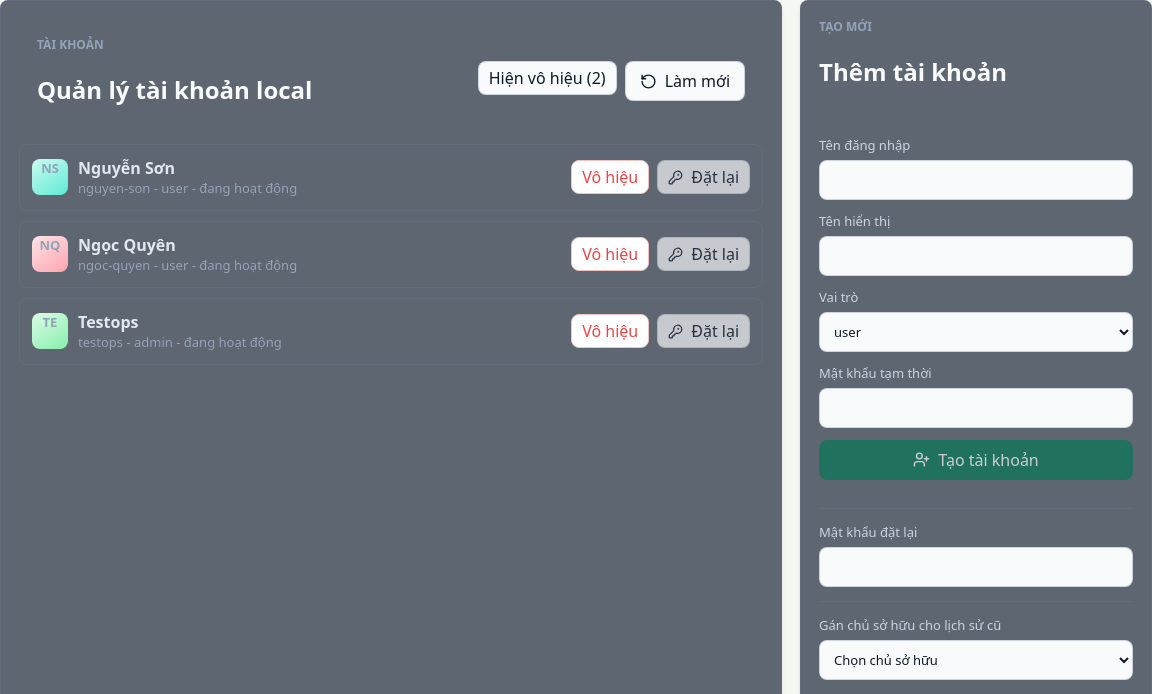
AdminAccountsPanel › reveals disabled accounts only when the admin asks for them
This screenshot has width=1152, height=694.
Click the button "Hiện vô hiệu (2)" at point(547, 78), box [478,61,617,95]
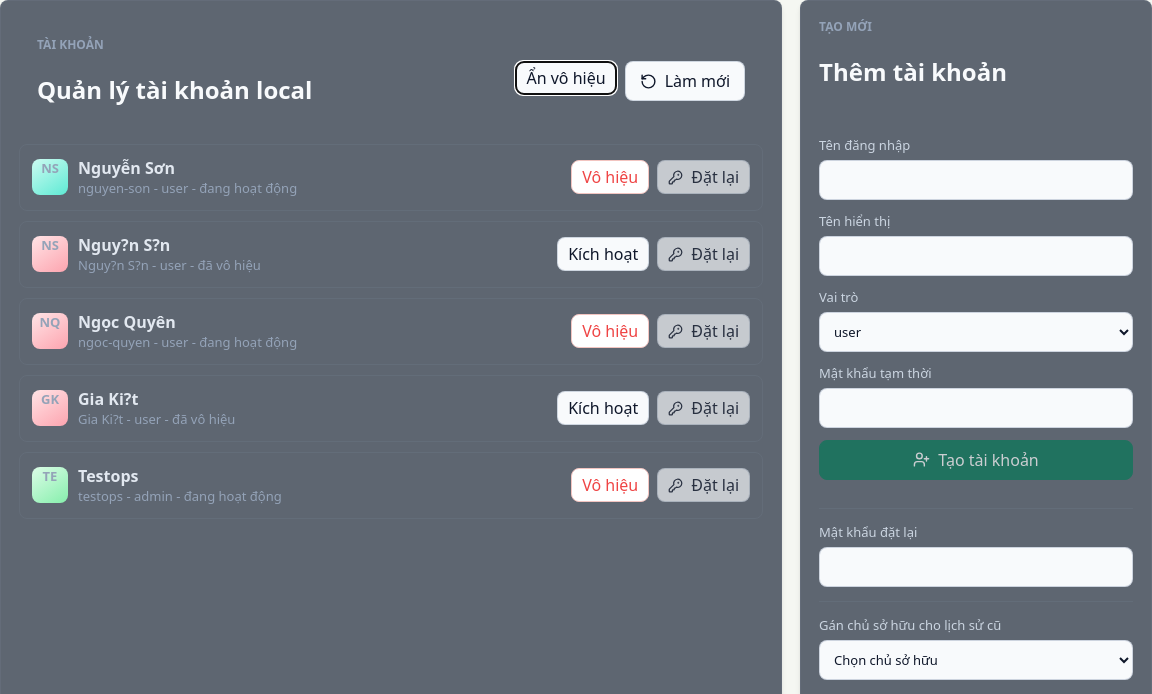
Check: the text "Nguy?n S?n" is shown, box [78,234,170,256]
Check: the text "Gia Ki?t" is shown, box [78,388,138,410]
